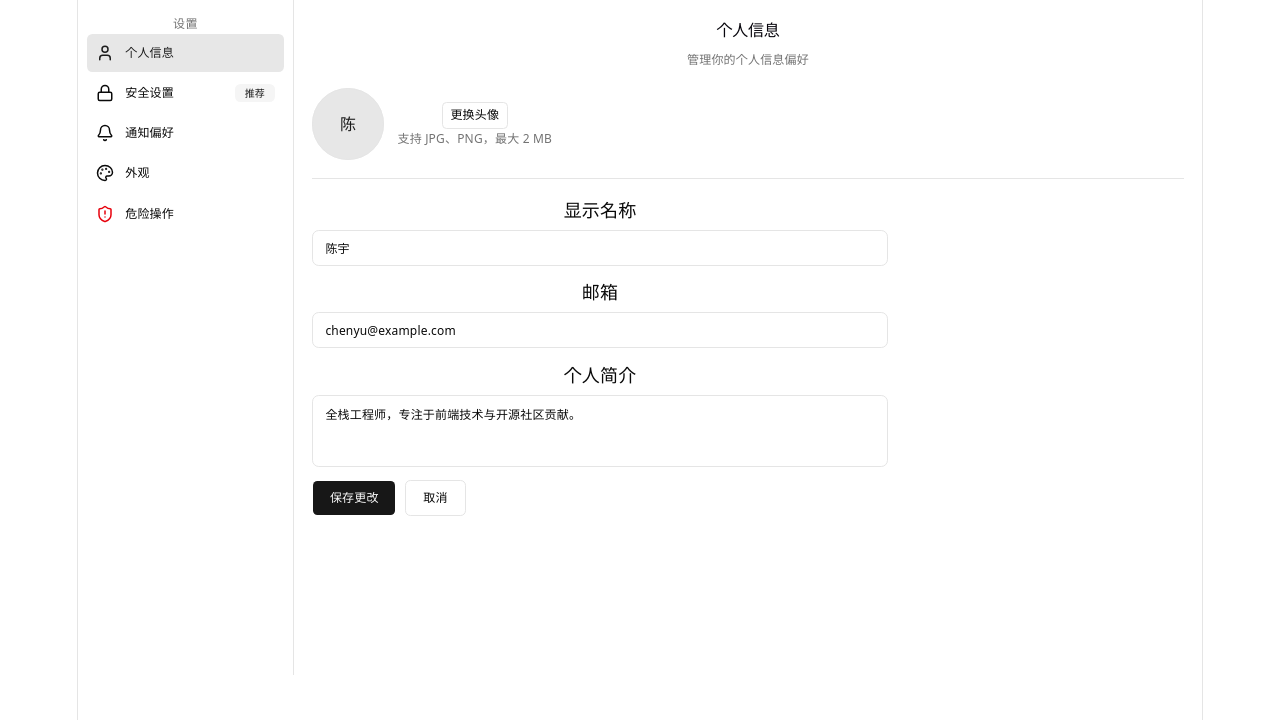
Test: SettingsPage › switches to security tab on click
This screenshot has width=1280, height=720.
Click the tab "安全设置 推荐": (186,93) [87,74,284,112]
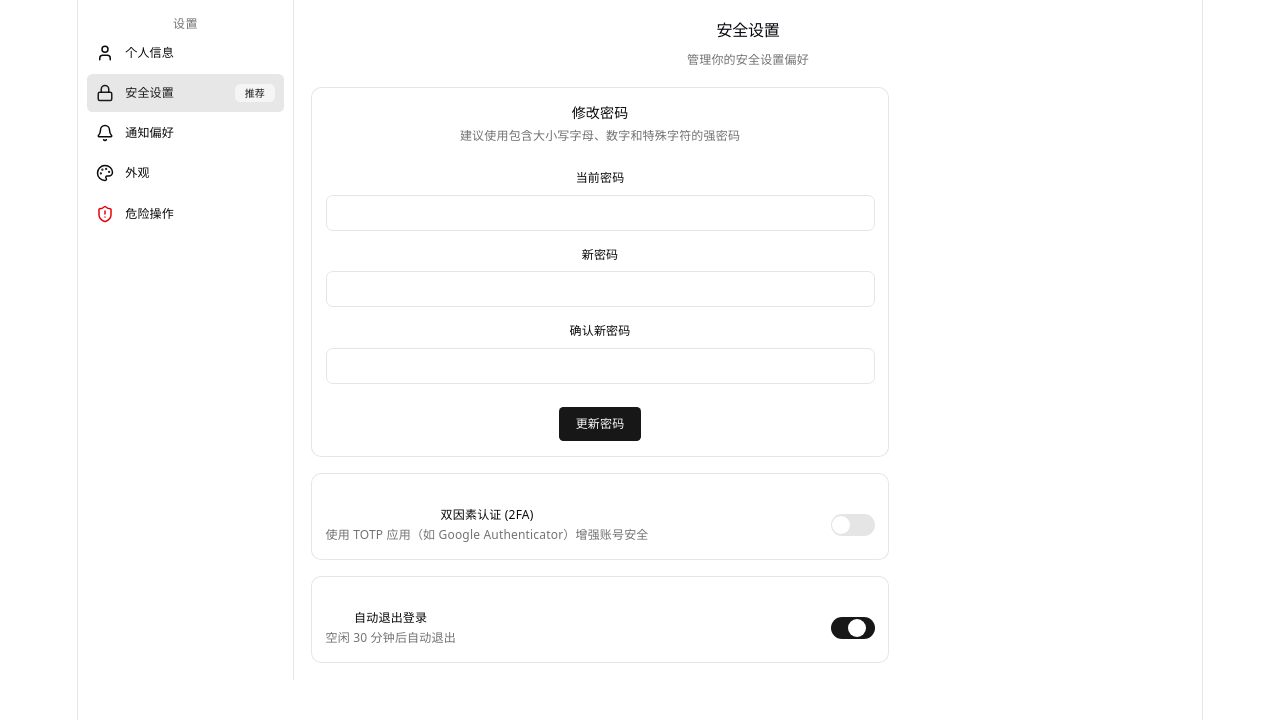
Expected: the text "修改密码" is shown, [572,104,628,120]
Expected: the text "双因素认证 (2FA)" is shown, [441,506,533,523]
